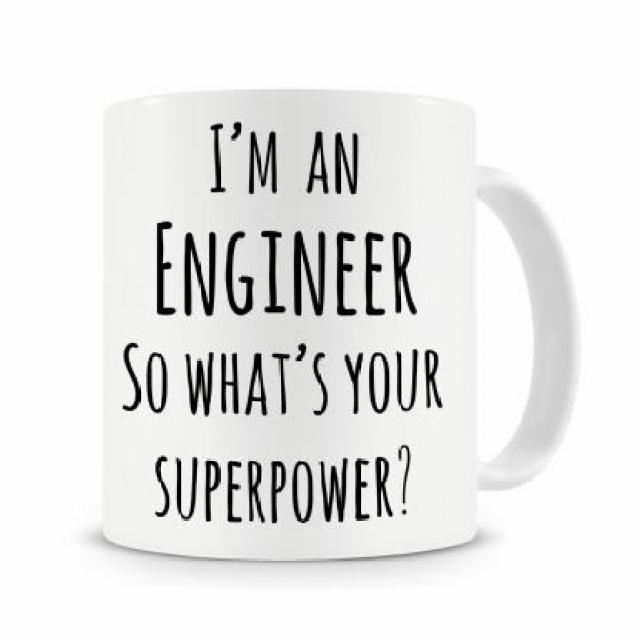taza: (87, 76, 586, 573)
